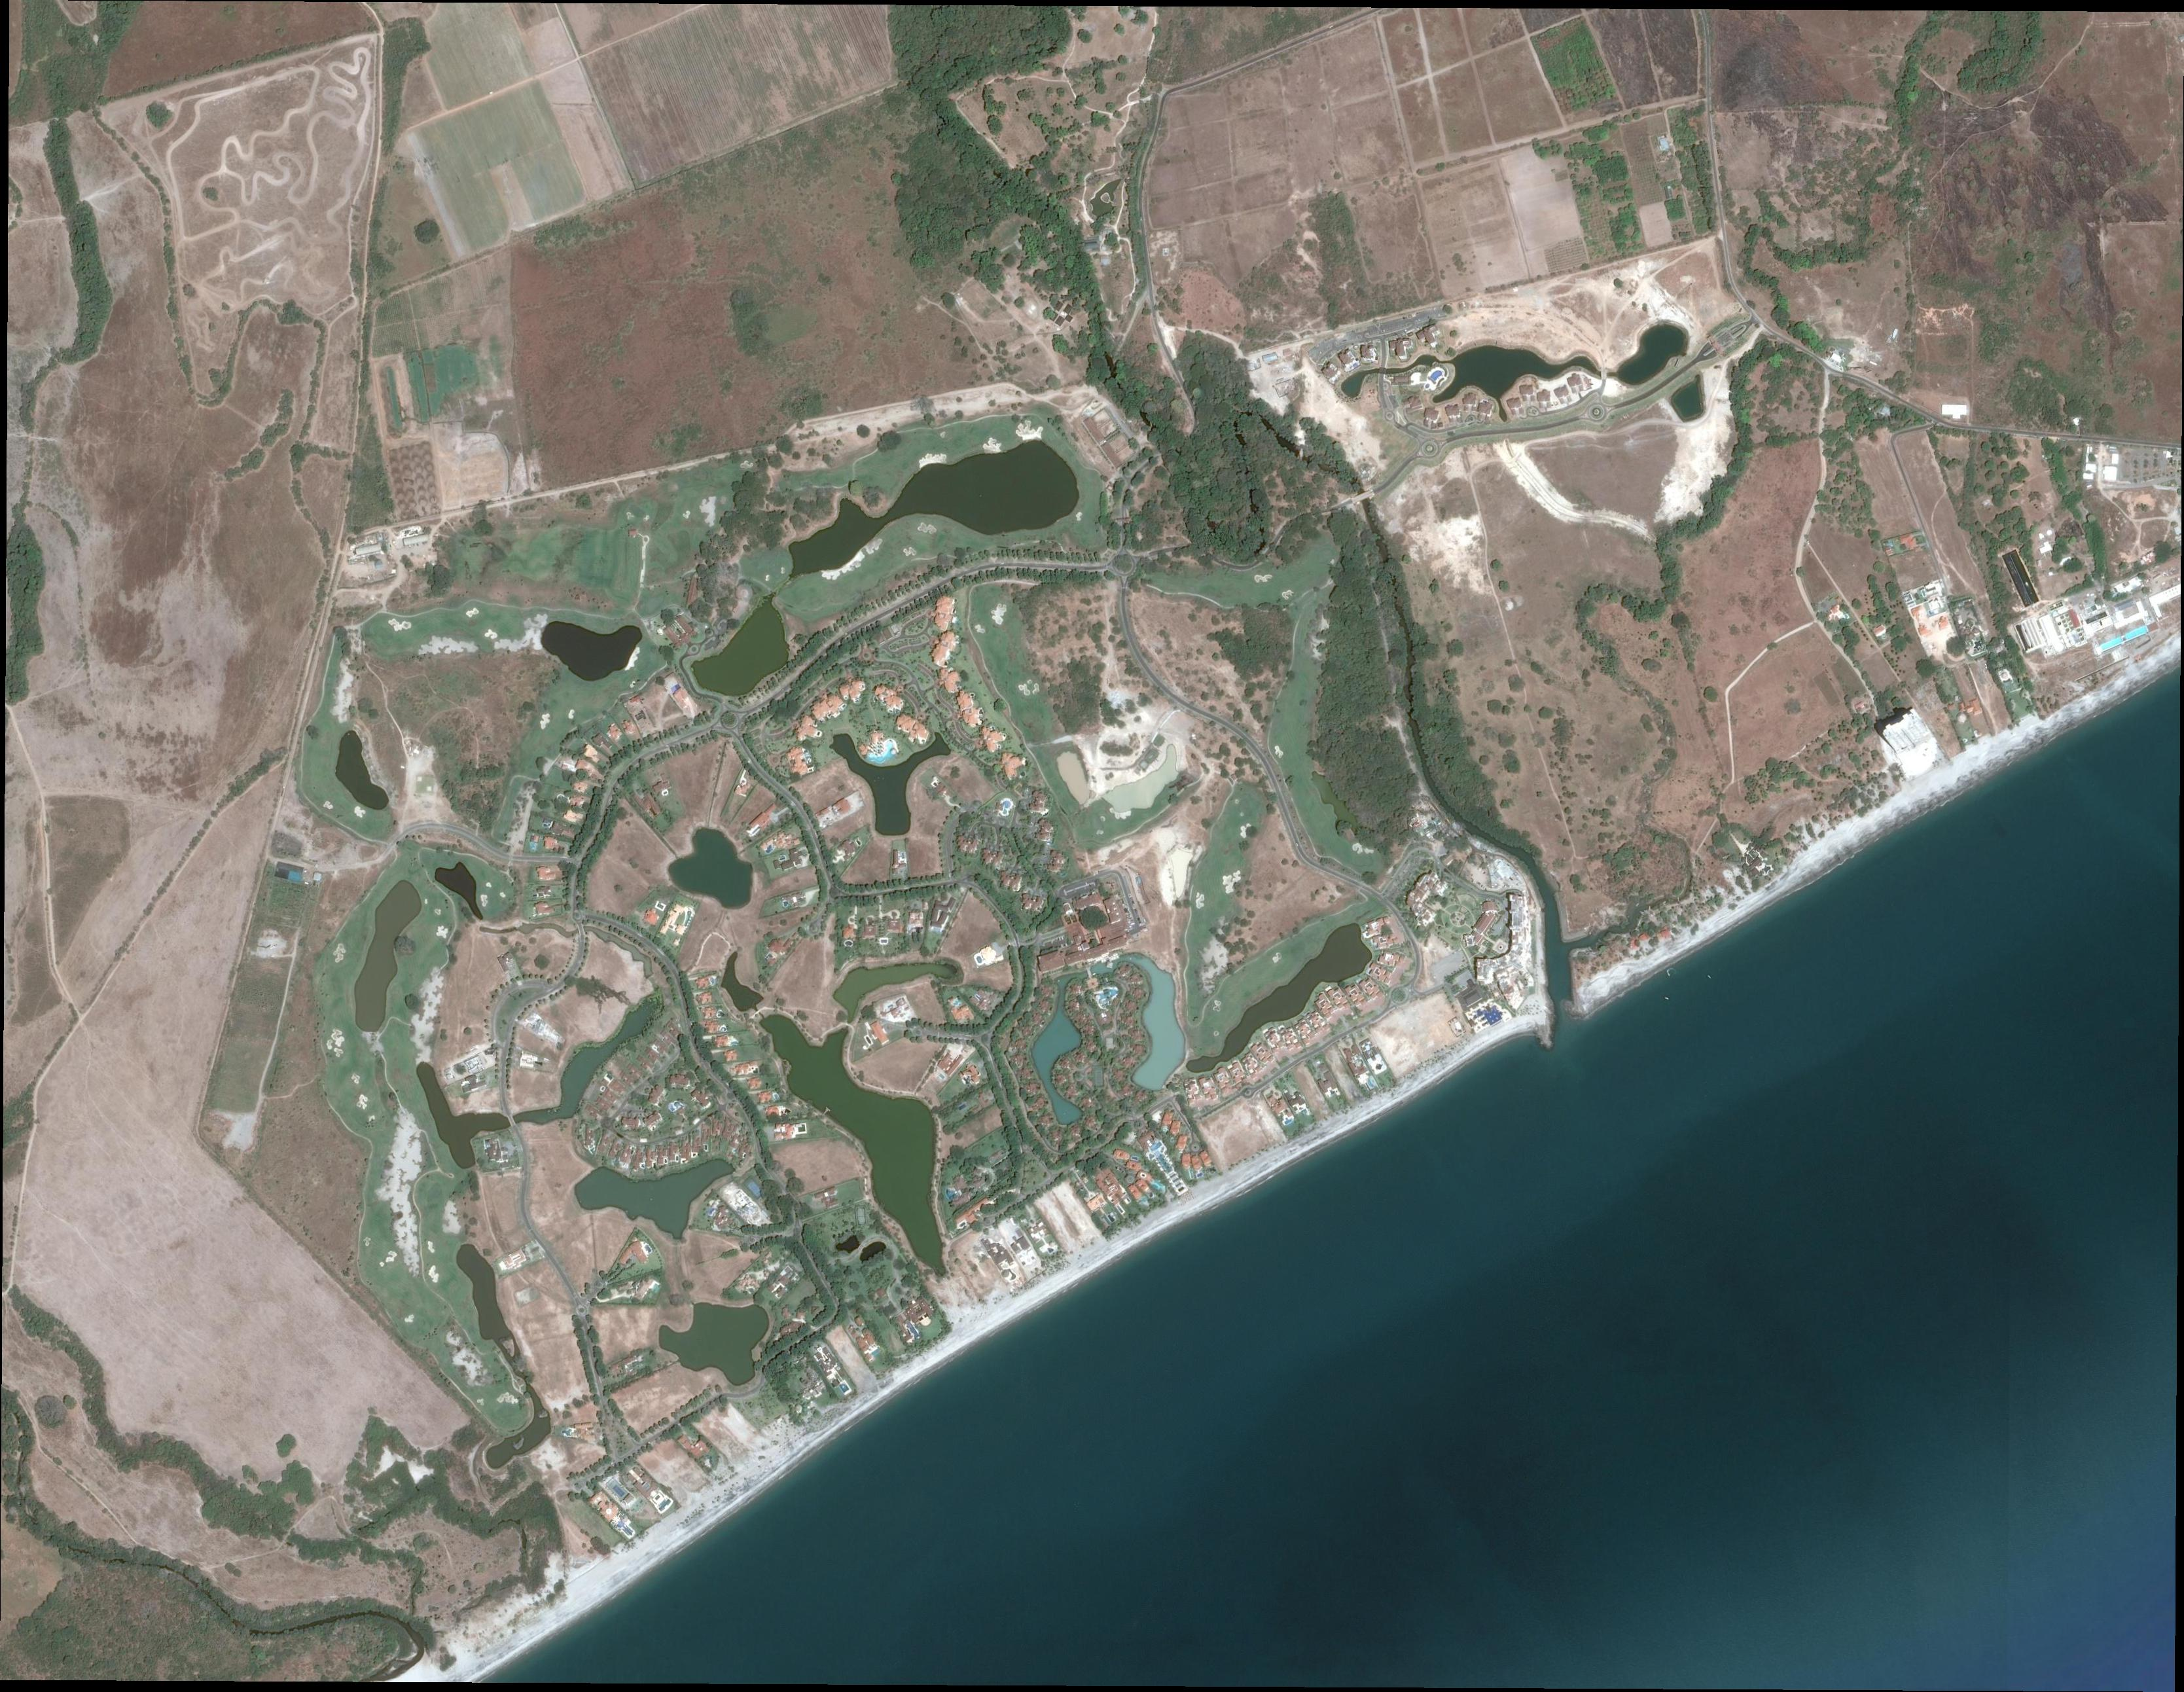ship: (1663, 995, 1672, 1000), (1707, 974, 1712, 979)
